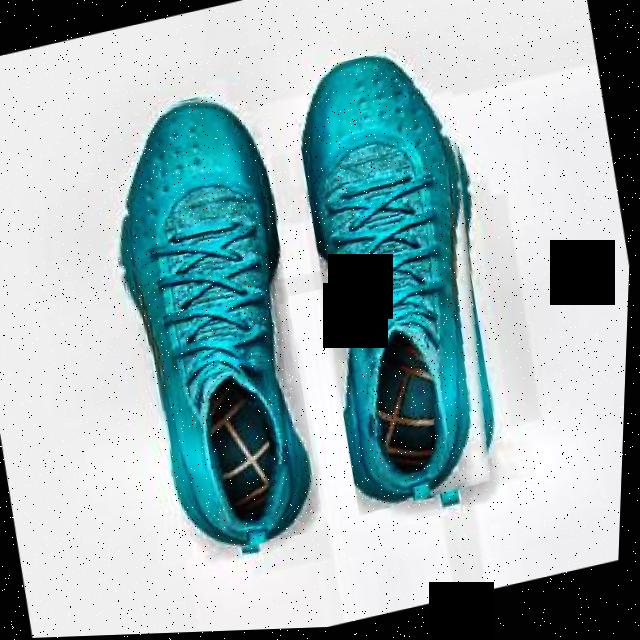shoe: (84, 82, 342, 569), (277, 39, 535, 522)
